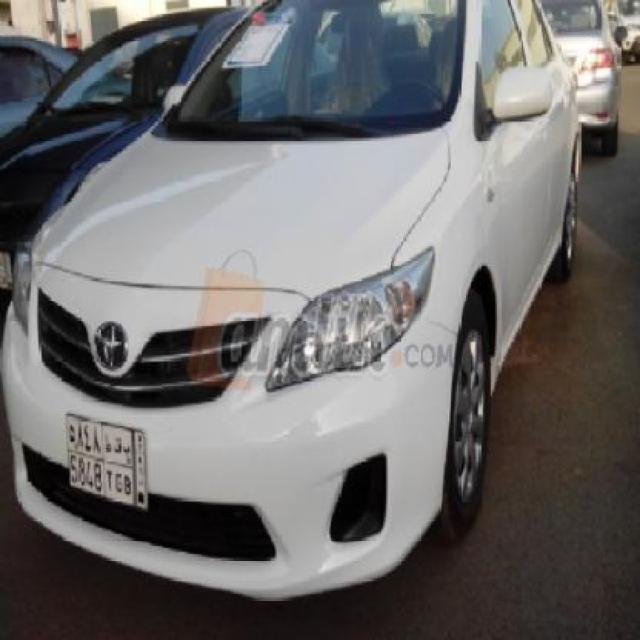license_plate: (64, 410, 152, 515)
